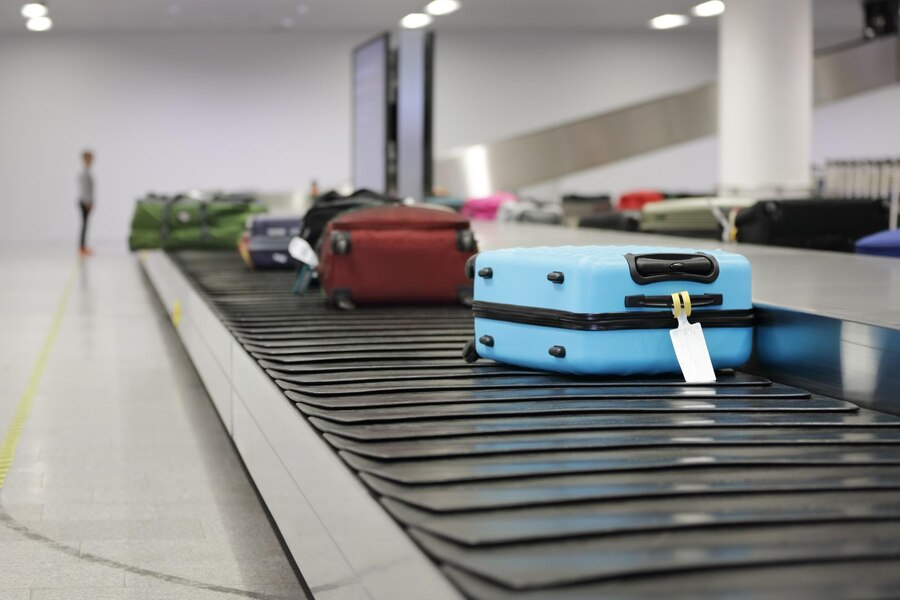baggage: (468, 239, 753, 414), (320, 206, 478, 314)
